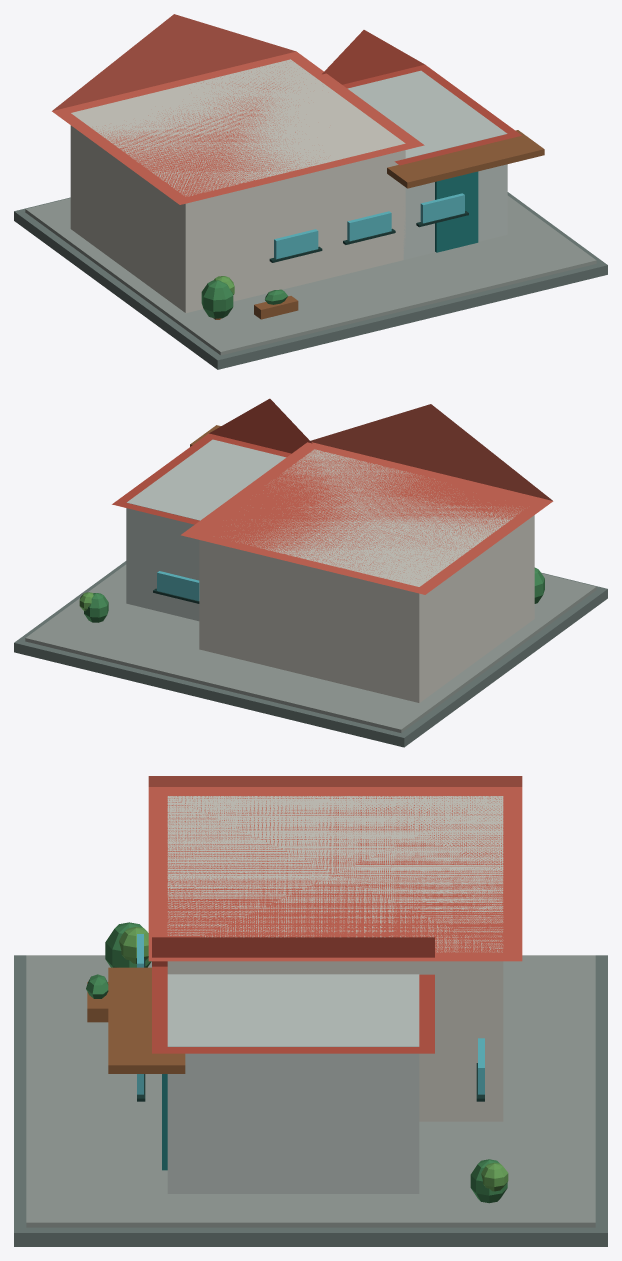
The model's file is house_lv2.glb.
The picture shows the model from 3 angles, top to bottom: view 1: azimuth 30°, elevation 25°; view 2: azimuth 150°, elevation 25°; view 3: azimuth 270°, elevation 25°; orthographic projection. The views are drawn at different scales.
Visible parts, largest first — view 1: rough, glossy; view 2: rough, glossy; view 3: rough, glossy.
Part boxes in pixels (bbox=[...]): rough: bbox=[14, 14, 607, 369]; glossy: bbox=[274, 193, 464, 259]; rough: bbox=[14, 398, 607, 747]; glossy: bbox=[157, 571, 199, 600]; rough: bbox=[14, 776, 607, 1246]; glossy: bbox=[137, 934, 484, 1094].
Size of the model in its own units: 9.4 by 4.52 by 8.5.
